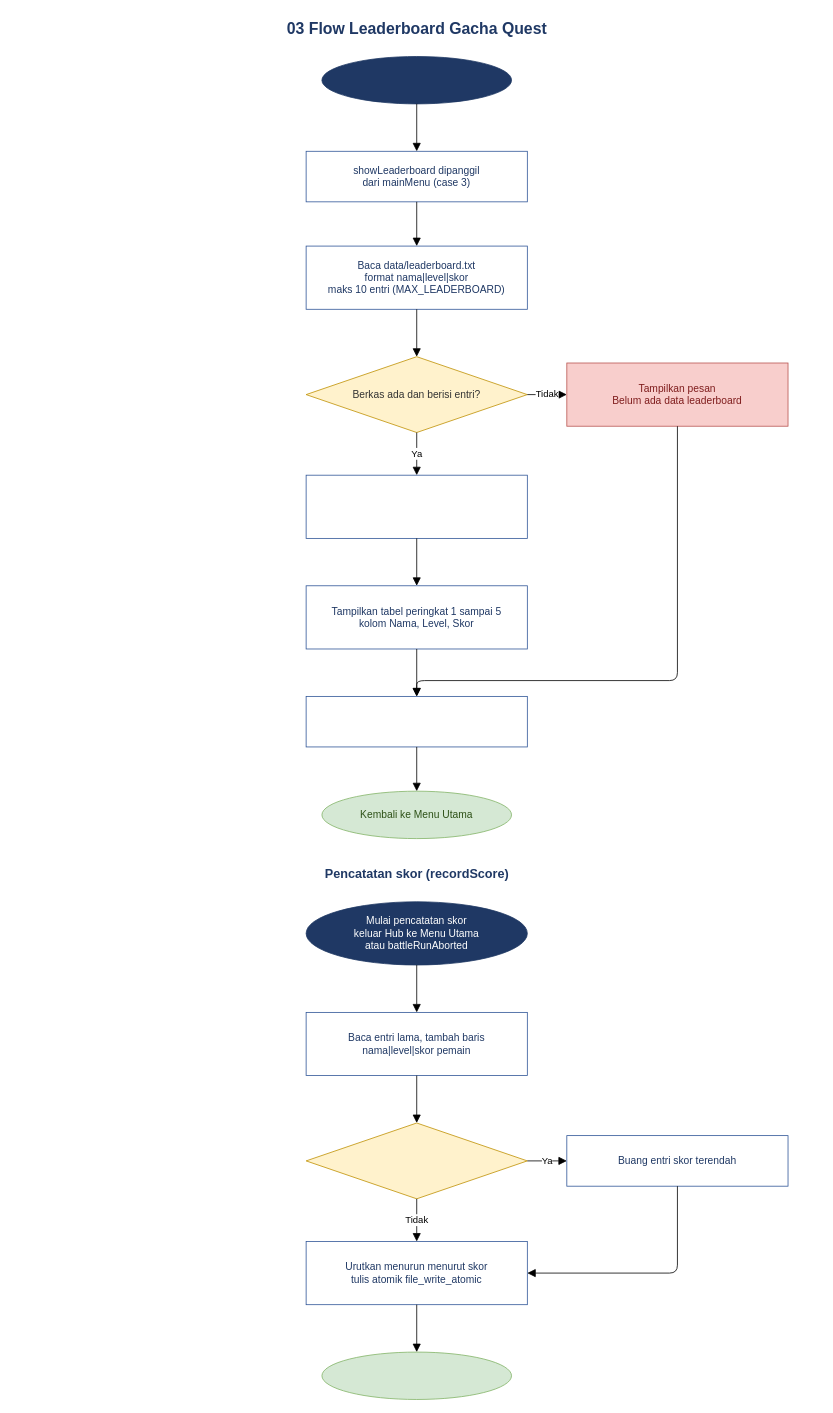
Image size: 833x1413. Some labels were removed from this diagram. The centre of each missing label's shape, as x and y in pixels:
"Ambil 5 teratas urut skor menurun (TOP_DISPLAY)" belongs at (416,506).
"Jumlah entri lebih dari 10?" belongs at (416,1160).
"Mulai: Menu Utama pilih 3 Leaderboard" belongs at (416,80).
"Skor dicatat, kembali ke Menu Utama" belongs at (416,1375).
"Tunggu tombol apa pun" belongs at (416,721).
